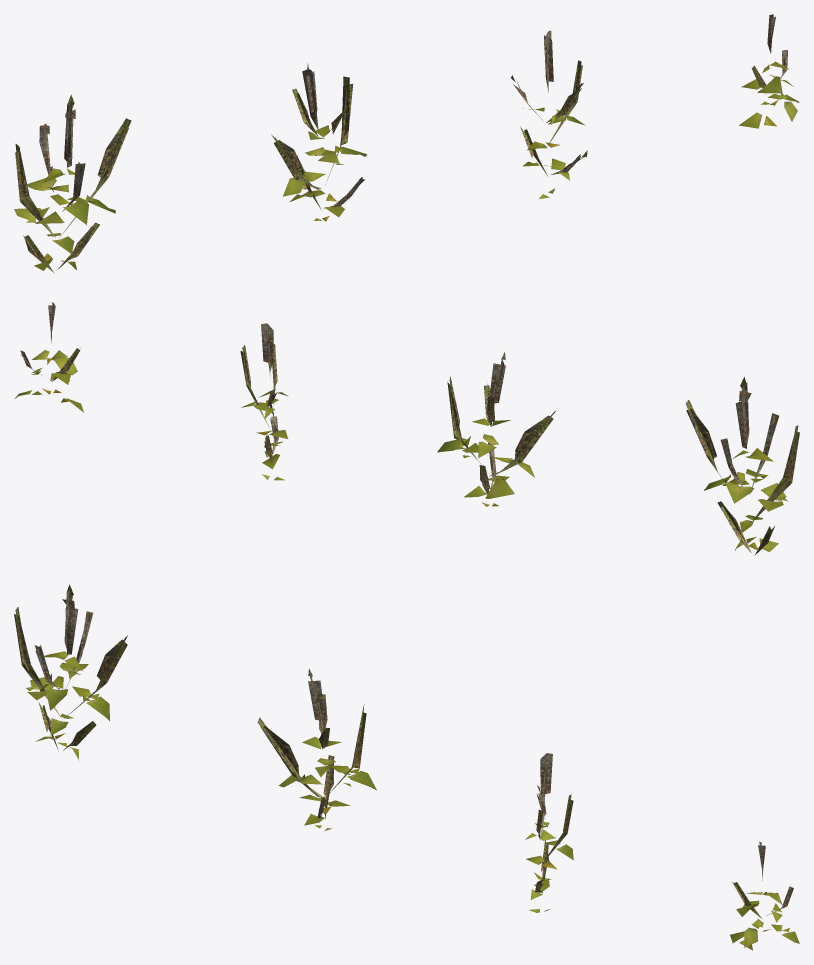
Rendered from shrub_03.glb.
3 views of the same model, one above another, from view 1: azimuth 30°, elevation 25°; view 2: azimuth 150°, elevation 25°; view 3: azimuth 330°, elevation 25° (orthographic). The views are drawn at different scales.
Visible parts, largest first — view 1: shrub_03_a; view 2: shrub_03_a; view 3: shrub_03_a.
Boxes of the visible parts, x1,y1,x2,y2 form: shrub_03_a: (14, 14, 799, 273); shrub_03_a: (15, 302, 799, 554); shrub_03_a: (14, 584, 799, 950).
Bounding box in the file's own units: 1.36 × 0.3627 × 0.1512.
1 material, 1 textured.
